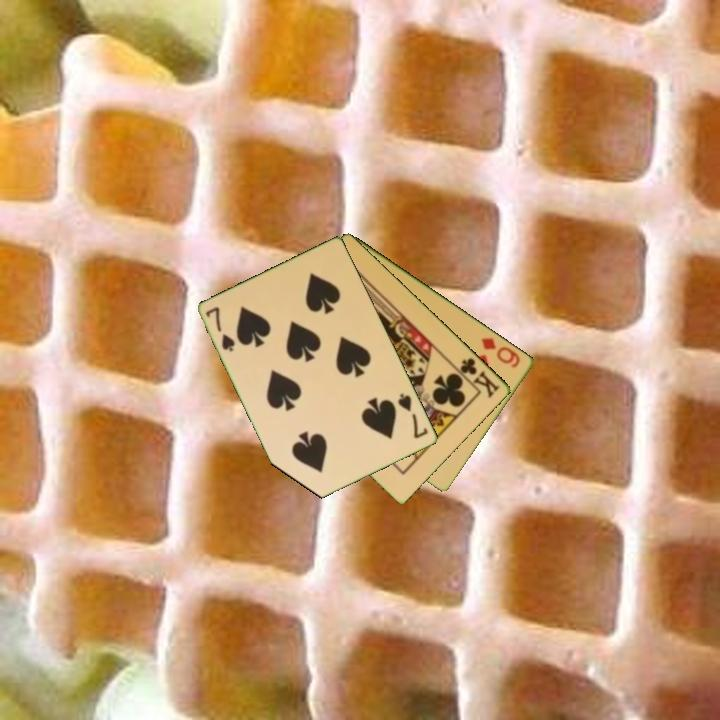6d: (478, 334, 523, 371)
7s: (395, 390, 431, 442), (202, 303, 238, 355)
Kc: (451, 354, 503, 401)
